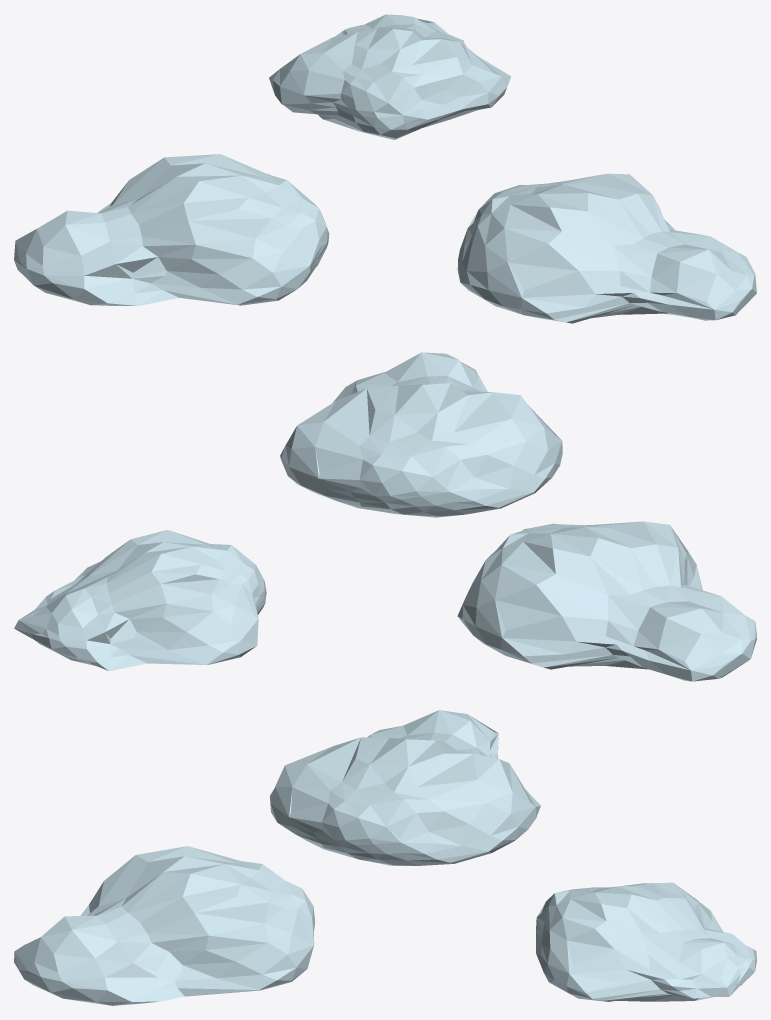
Rendered from StressBallBroken.fbx.
3 views of the same model, one above another, from view 1: azimuth 30°, elevation 25°; view 2: azimuth 150°, elevation 25°; view 3: azimuth 270°, elevation 25° (orthographic). The views are drawn at different scales.
Parts seen in each view (by area): view 1: Cube; view 2: Cube; view 3: Cube.
Part boxes in pixels (box(x1,y1,x2,y2)): Cube: box(14, 14, 756, 323); Cube: box(14, 352, 756, 681); Cube: box(14, 710, 756, 1005).
Size of the model in its own units: 0.2064 by 0.0307 by 0.2402.
